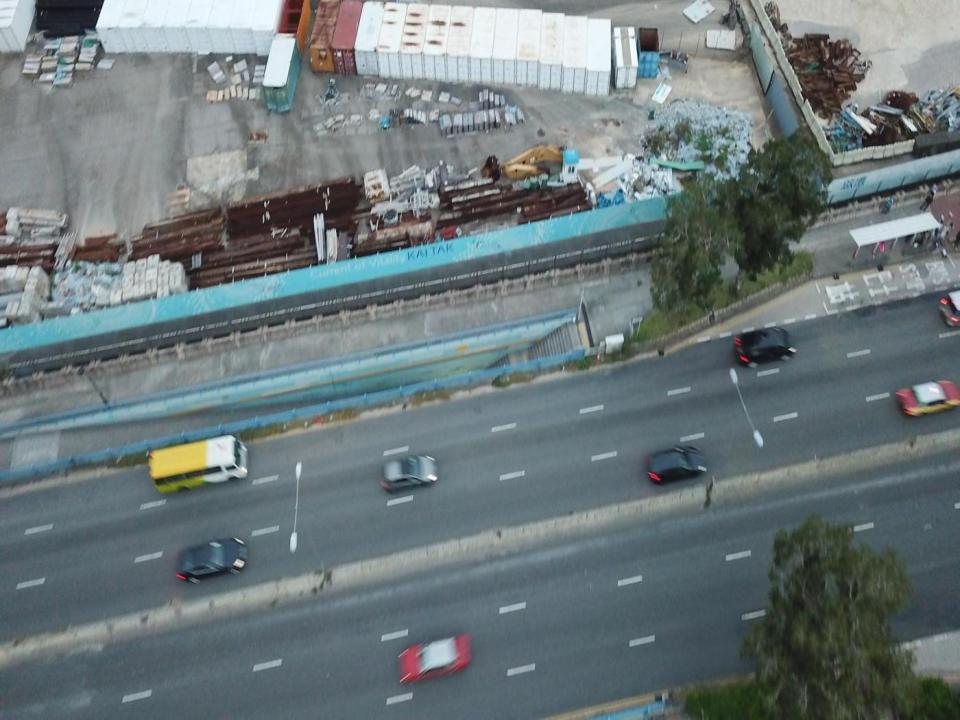bus: (147, 434, 247, 494)
car: (396, 631, 473, 686), (175, 535, 247, 586), (644, 443, 708, 488), (376, 453, 441, 495), (732, 326, 796, 366), (896, 376, 958, 417), (938, 286, 960, 332)
